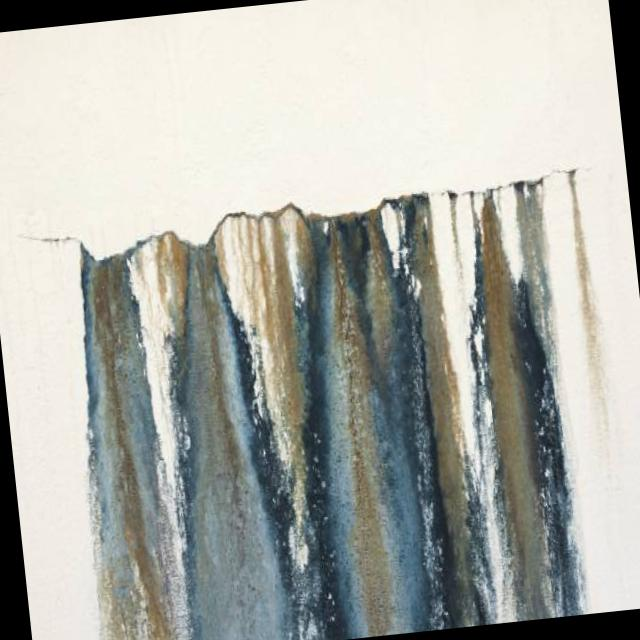crack: (17, 160, 586, 270)
